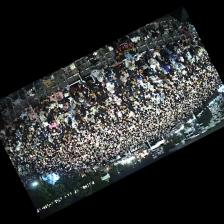person: (76, 66, 95, 86), (145, 52, 160, 70), (166, 47, 180, 62), (143, 62, 155, 79), (70, 82, 84, 96), (38, 97, 51, 110), (111, 61, 124, 74), (105, 77, 115, 92), (126, 65, 138, 77), (92, 68, 104, 80), (50, 91, 63, 102), (134, 52, 144, 66), (90, 83, 100, 96), (125, 57, 135, 69), (76, 92, 86, 104), (151, 47, 160, 60), (12, 116, 22, 127), (115, 71, 126, 81), (166, 41, 175, 53), (120, 84, 129, 95), (96, 76, 105, 87), (104, 64, 111, 78), (83, 86, 91, 98), (29, 111, 37, 123), (50, 100, 58, 112), (67, 95, 75, 107), (39, 110, 46, 123), (116, 77, 126, 86), (50, 108, 59, 118), (62, 96, 70, 107), (169, 55, 177, 66), (25, 104, 33, 115), (21, 111, 28, 123), (73, 101, 80, 113), (96, 95, 105, 104), (180, 38, 189, 47), (185, 51, 193, 61), (61, 86, 69, 96), (59, 102, 68, 110), (43, 107, 51, 116), (7, 119, 15, 128), (109, 40, 118, 48), (110, 68, 115, 82), (113, 94, 120, 103), (187, 36, 194, 43)
